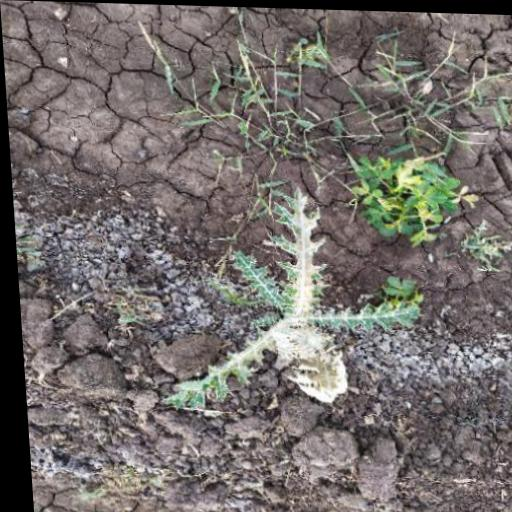weed: (152, 186, 435, 452), (133, 18, 512, 189), (326, 121, 475, 259)
